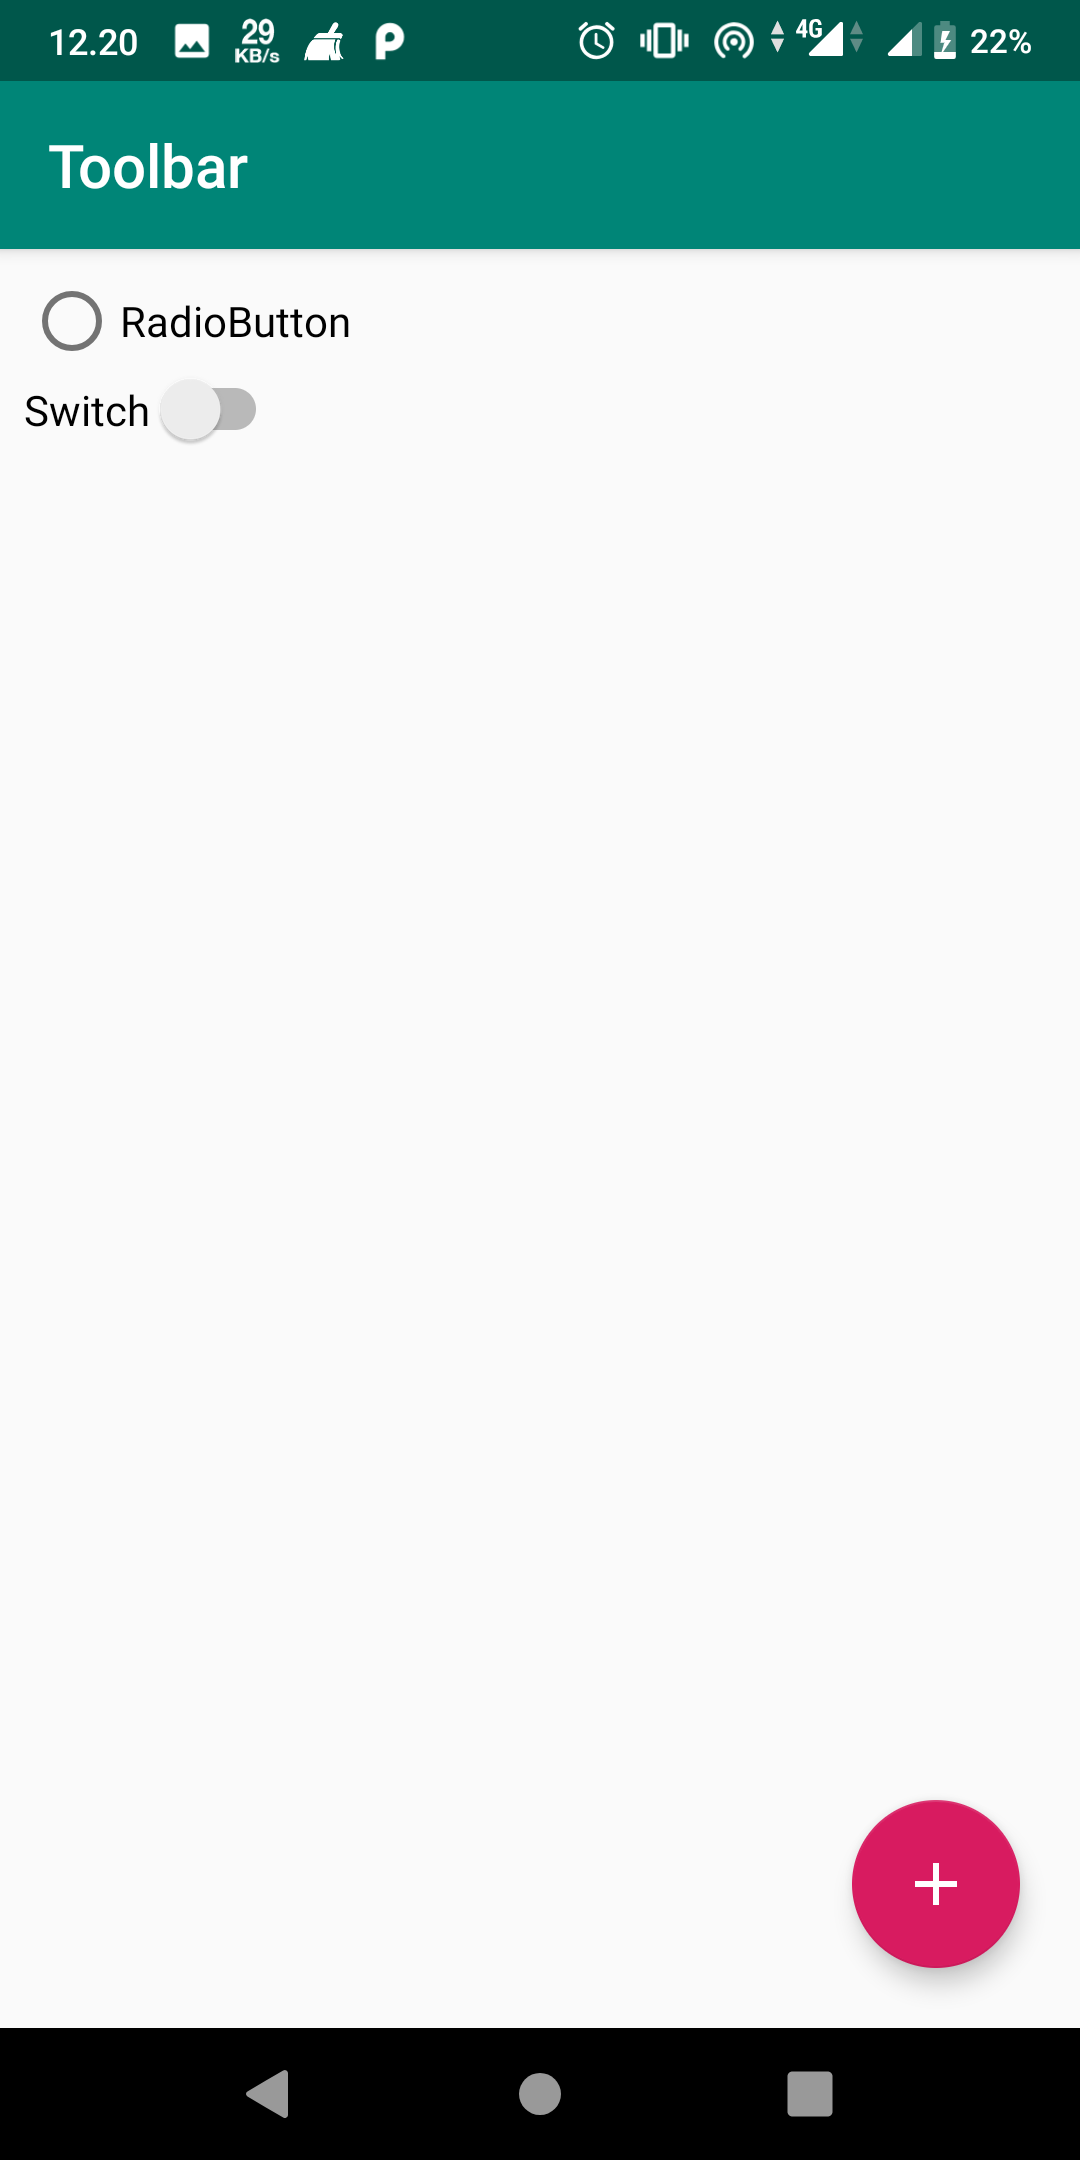floatingButton: (835, 1787, 1032, 1980)
radioButton: (34, 280, 357, 361)
switch: (19, 386, 287, 441)
toolbar: (3, 83, 1080, 249)
